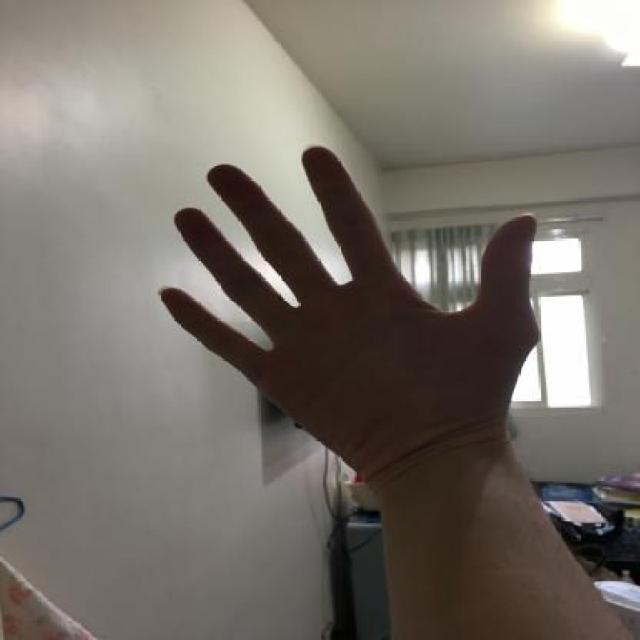bare_hand: (145, 133, 552, 512)
